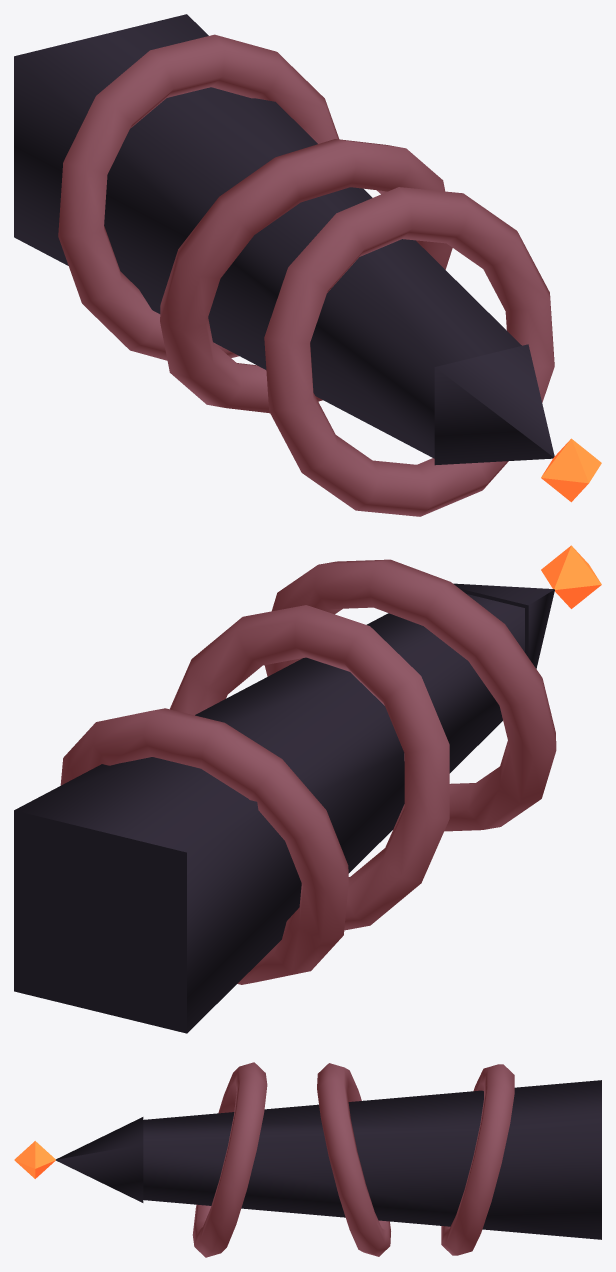
The model's file is chain-pylon.glb.
3 views of the same model, one above another, from view 1: azimuth 30°, elevation 25°; view 2: azimuth 150°, elevation 25°; view 3: azimuth 270°, elevation 25° (orthographic). The views are drawn at different scales.
Parts seen in each view (by area): view 1: Stone, Chains, Ember; view 2: Stone, Chains, Ember; view 3: Stone, Chains, Ember.
Boxes of the visible parts, x1,y1,x2,y2 form: Stone: (14, 14, 554, 465); Chains: (58, 34, 554, 516); Ember: (541, 438, 601, 502); Stone: (14, 583, 554, 1033); Chains: (60, 559, 556, 984); Ember: (541, 545, 601, 608); Stone: (56, 1080, 601, 1239); Chains: (192, 1062, 514, 1257); Ember: (14, 1141, 55, 1178).
Bounding box in the file's own units: 0.57 × 0.549 × 1.66.
